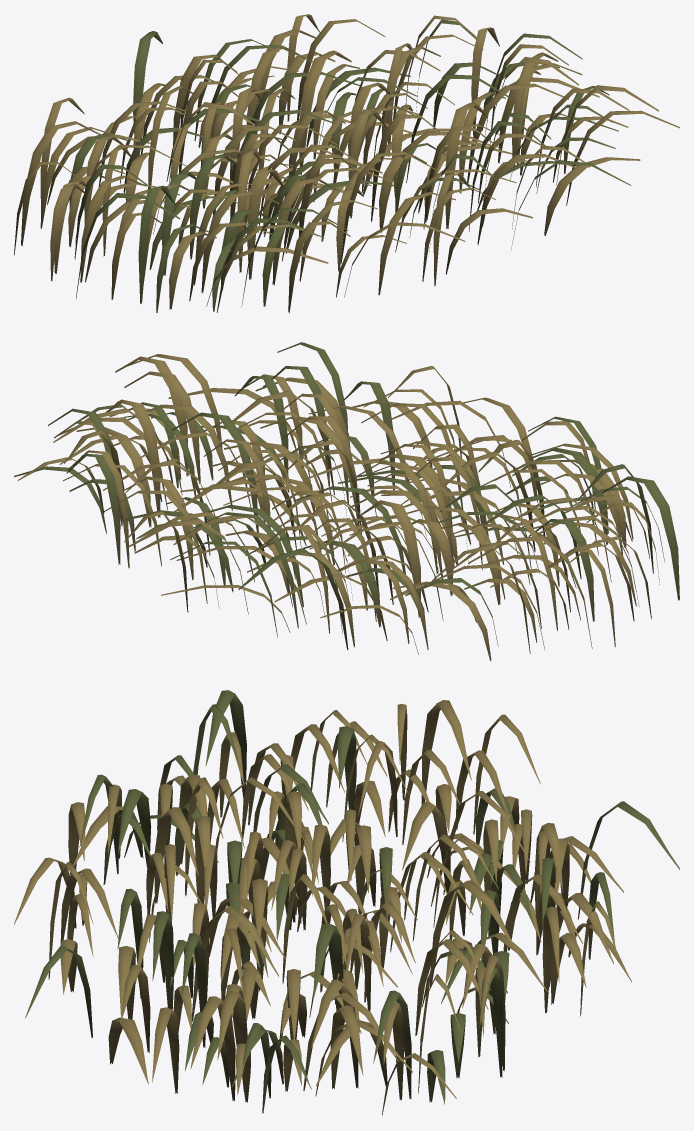
Rendered from grass-flow.glb.
The picture shows the model from 3 angles, top to bottom: view 1: azimuth 30°, elevation 25°; view 2: azimuth 150°, elevation 25°; view 3: azimuth 270°, elevation 25°; orthographic projection. The views are drawn at different scales.
Parts seen in each view (by area): view 1: LAND03 grass-flow; view 2: LAND03 grass-flow; view 3: LAND03 grass-flow.
Boxes of the visible parts, x1=… form: LAND03 grass-flow: x1=14, y1=14, x2=679, y2=313; LAND03 grass-flow: x1=14, y1=342, x2=679, y2=661; LAND03 grass-flow: x1=14, y1=690, x2=679, y2=1115.
Size of the model in its own units: 2.64 by 0.4718 by 2.07.
